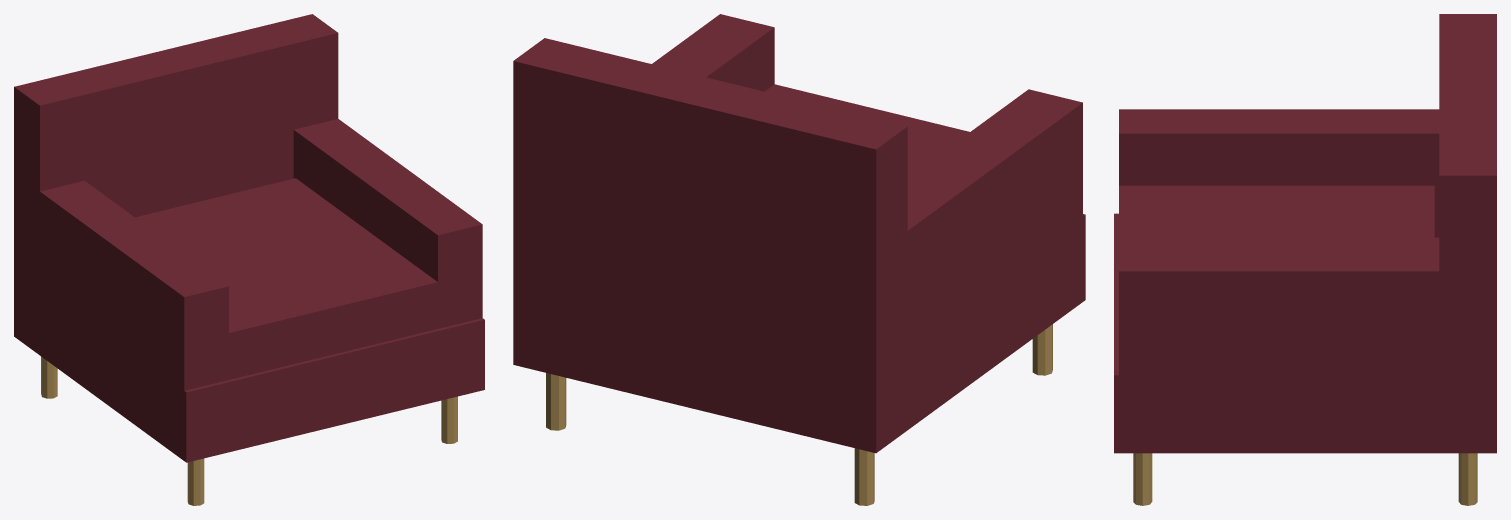
The model's file is poltrona_marsala.obj.
3 renders of one model, left to right at view 1: azimuth 30°, elevation 25°; view 2: azimuth 150°, elevation 25°; view 3: azimuth 270°, elevation 25°, orthographic. The views are drawn at different scales.
Visible parts, largest first — view 1: poltrona_marsala; view 2: poltrona_marsala; view 3: poltrona_marsala.
Boxes of the visible parts, left/top/right/bottom form: poltrona_marsala: left=14, top=14, right=484, bottom=505; poltrona_marsala: left=513, top=14, right=1085, bottom=505; poltrona_marsala: left=1114, top=14, right=1496, bottom=505.
Size of the model in its own units: 0.8 by 0.78 by 0.8.
